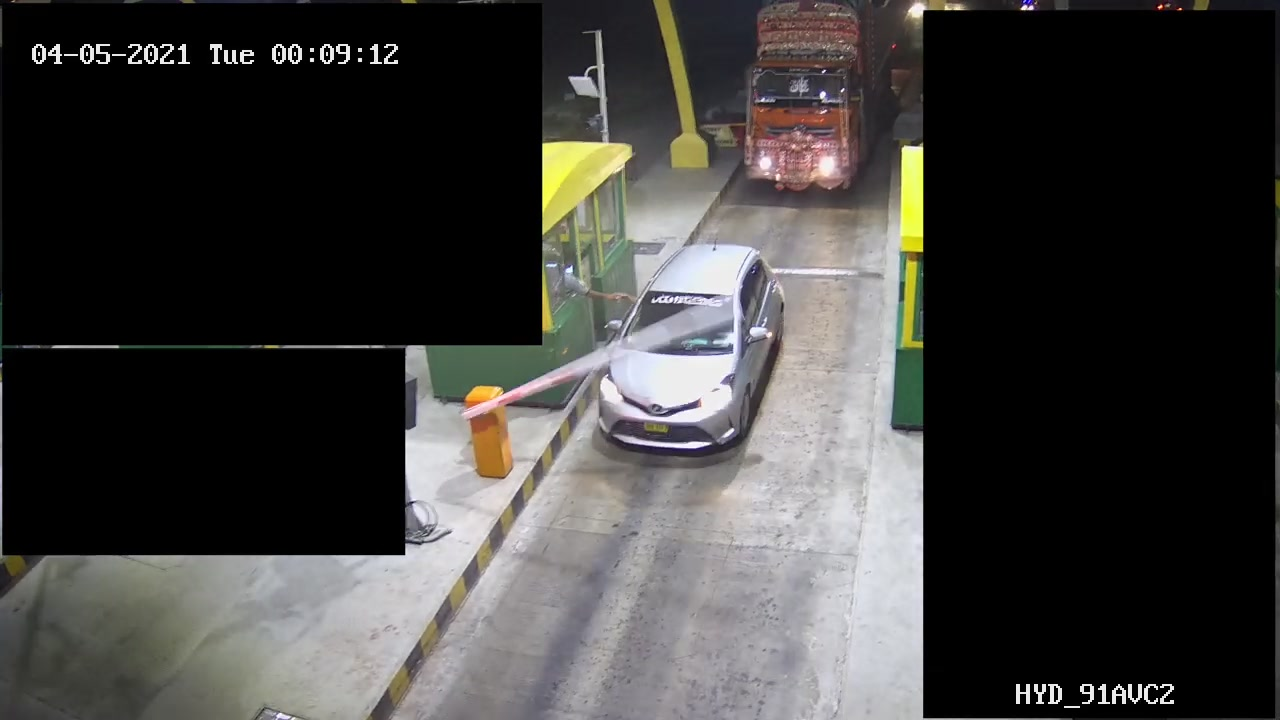F1: (588, 234, 813, 491)
